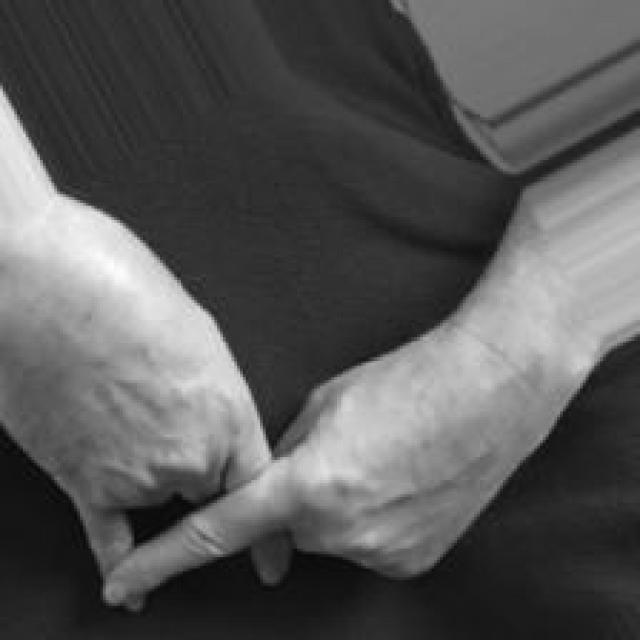H: (0, 206, 492, 614)
